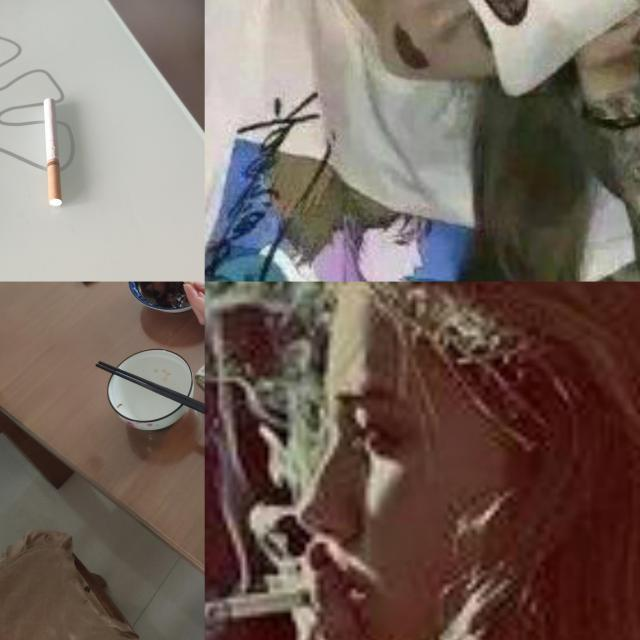smoke: (204, 580, 350, 626), (43, 96, 65, 206)
